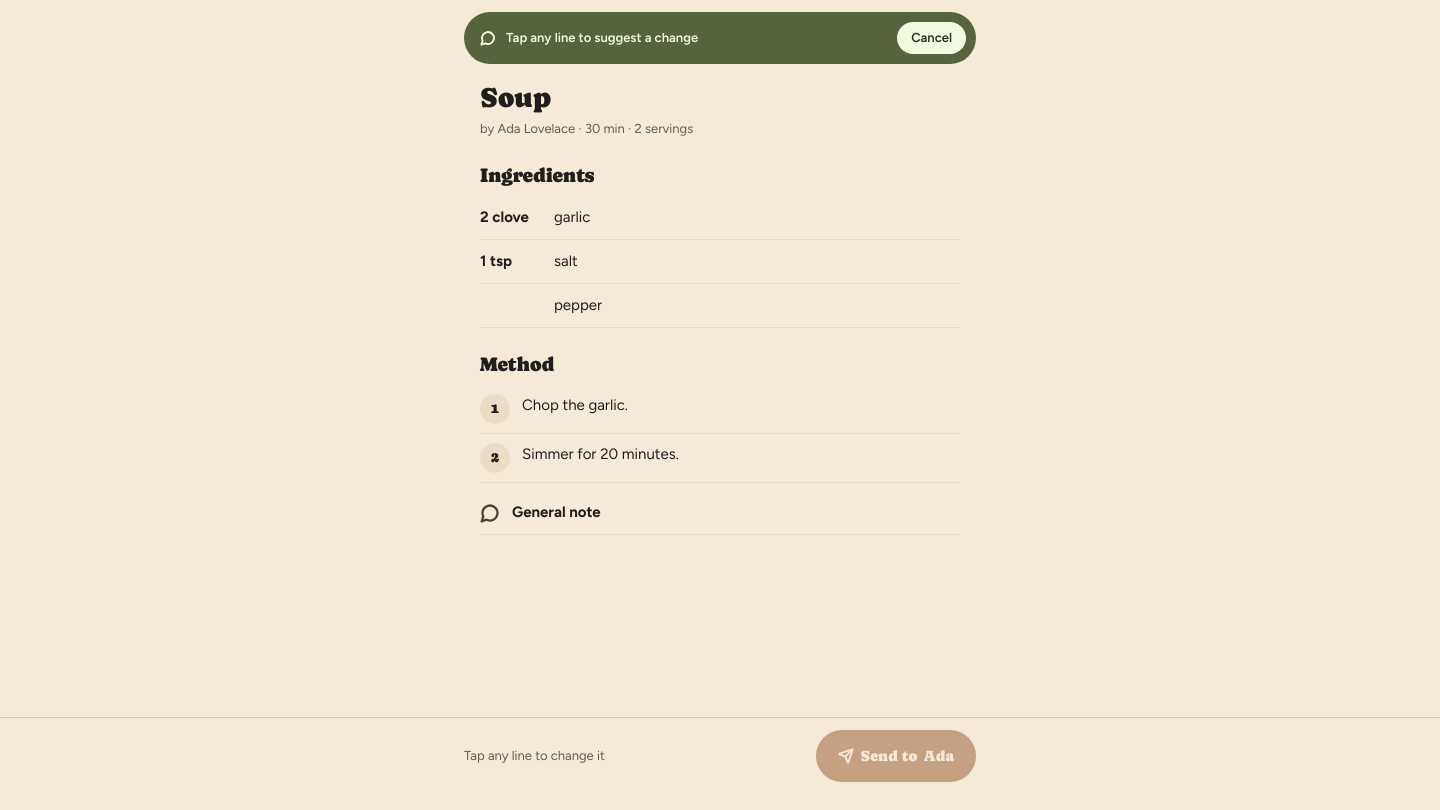
Test: SuggestMode › shows the rate-limit message
This screenshot has width=1440, height=810.
Click the button "2 clove garlic" at (504, 217), box x1=480 y1=196 x2=960 y2=240
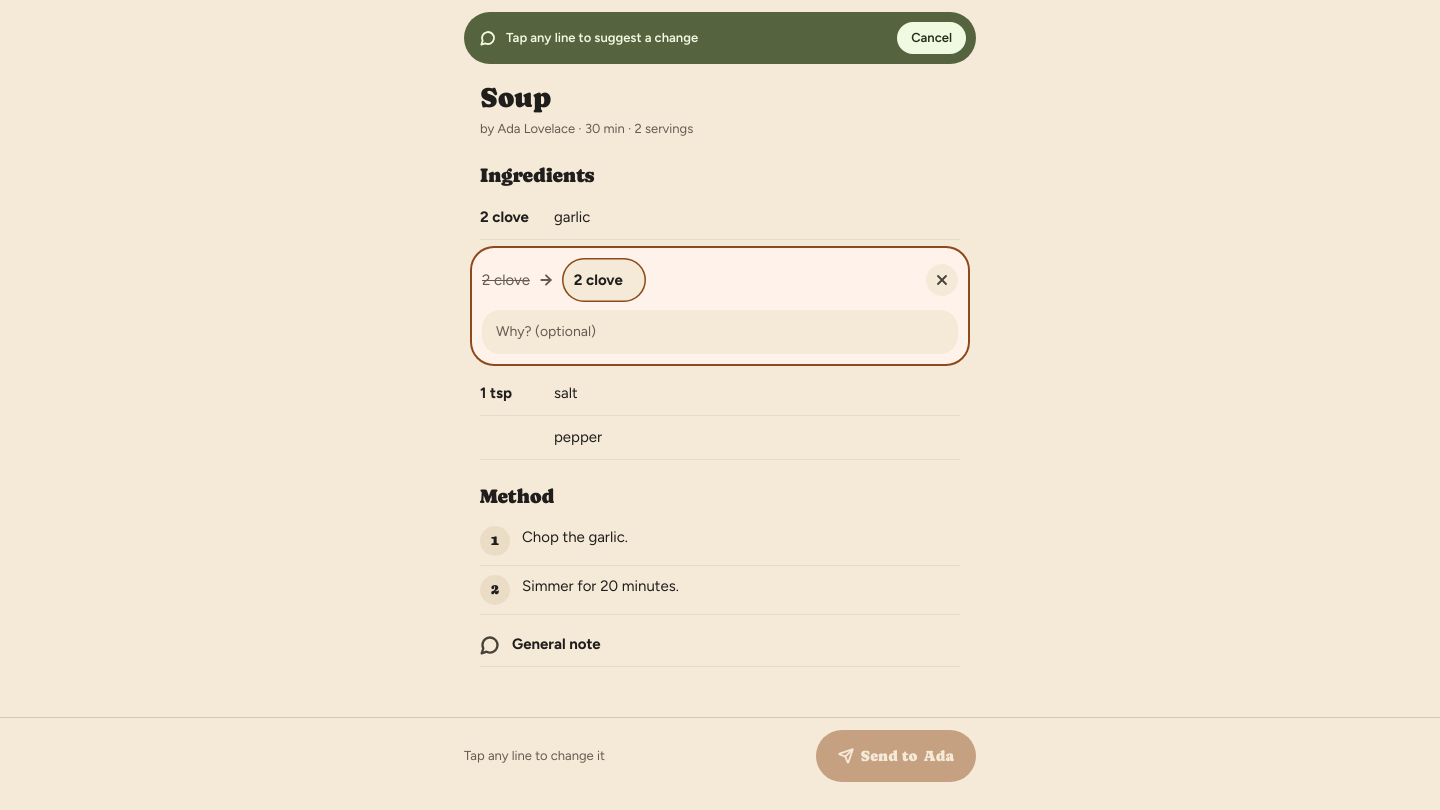
Replace the text in the field named "New amount" with "4 cloves" at (604, 280), box x1=562 y1=258 x2=646 y2=302
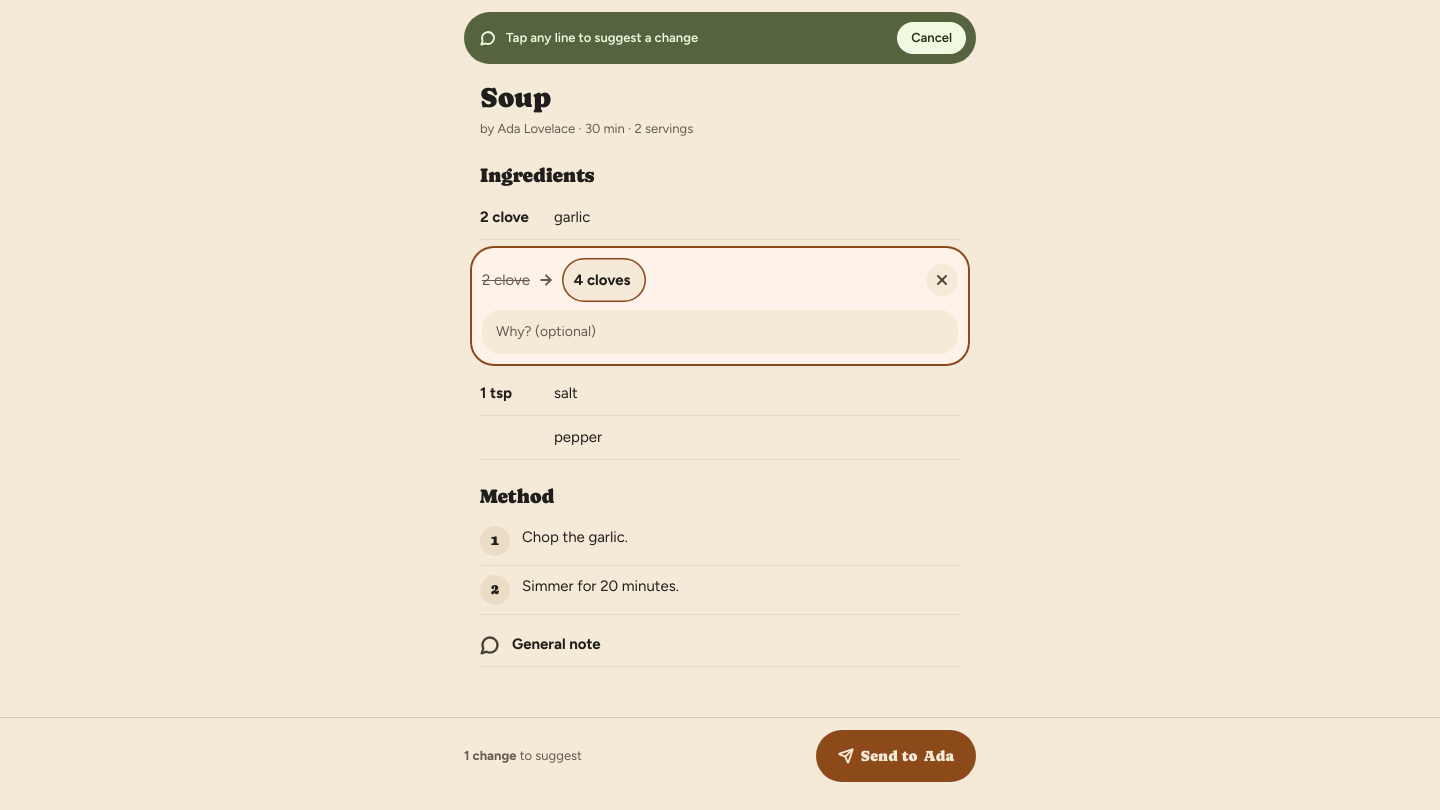
Click the button "Send to Ada" at (896, 756), box x1=816 y1=730 x2=976 y2=782
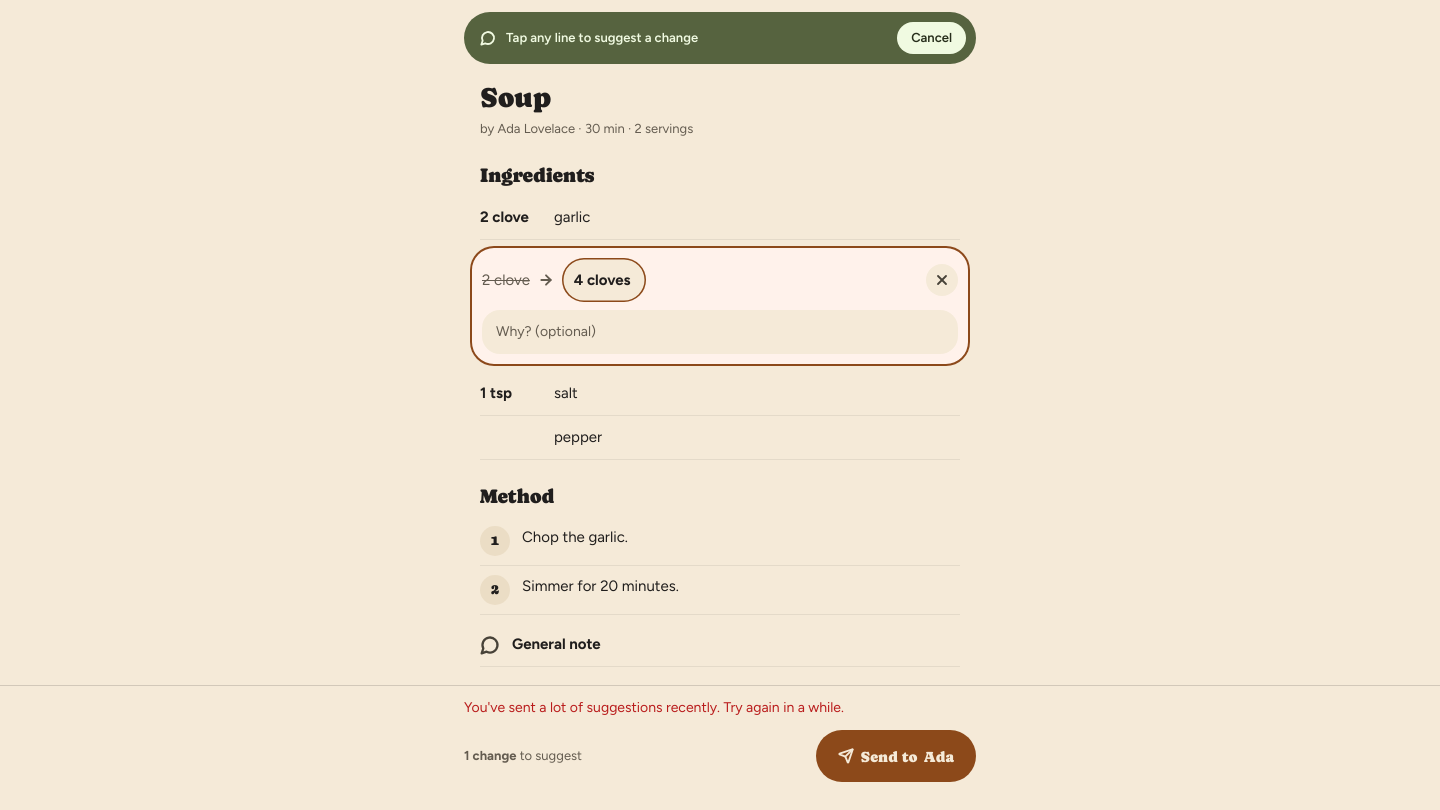
expect the message reads "You've sent a lot of suggestions recently. Try again in a while.": met, box x1=464 y1=699 x2=844 y2=716
